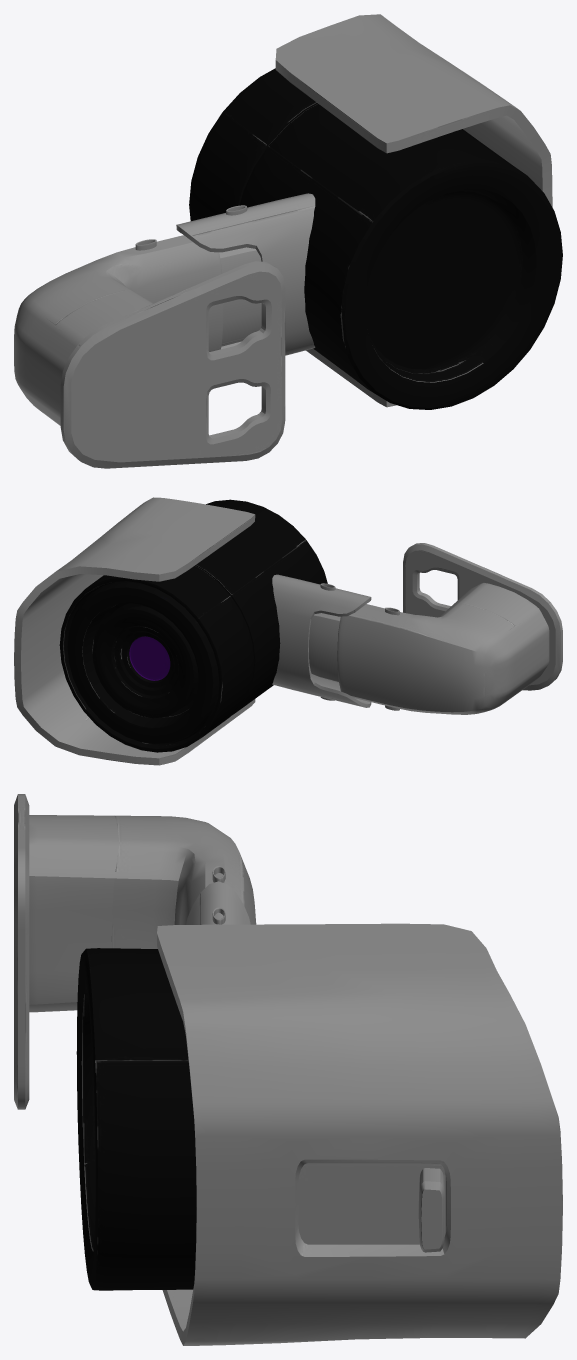
File: cctv.glb
3 views of the same model, one above another, from view 1: azimuth 30°, elevation 25°; view 2: azimuth 150°, elevation 25°; view 3: azimuth 270°, elevation 25° (orthographic). The views are drawn at different scales.
Parts seen in each view (by area): view 1: Cylinder.003; view 2: Cylinder.003; view 3: Cylinder.003.
Part boxes in pixels (x1,y1,x2,y2): Cylinder.003: [14, 14, 562, 468]; Cylinder.003: [14, 497, 562, 765]; Cylinder.003: [14, 794, 562, 1345].
Bounding box in the file's own units: 0.35 × 0.1563 × 0.2253.
1 material, 1 textured.
